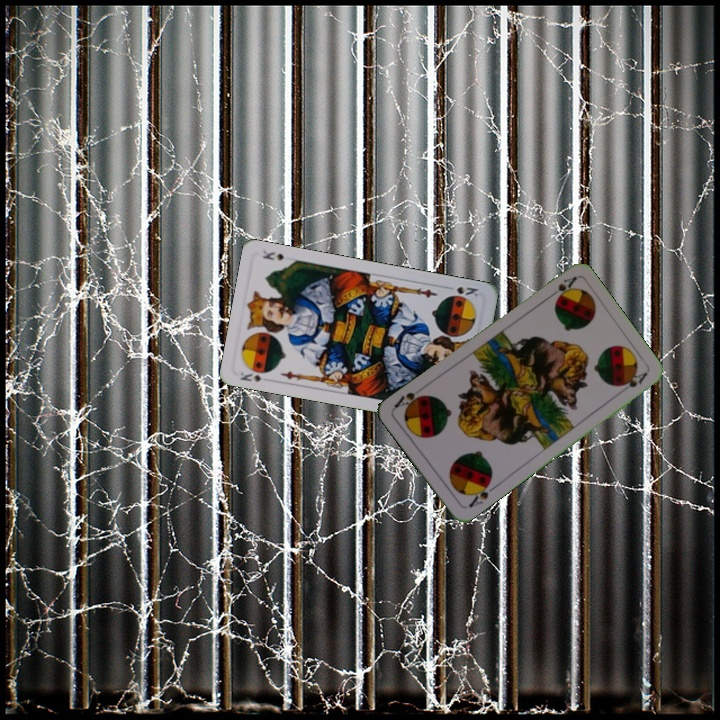SA: (464, 477, 498, 510), (543, 273, 579, 302)
SK: (236, 364, 273, 384), (453, 282, 481, 300)
